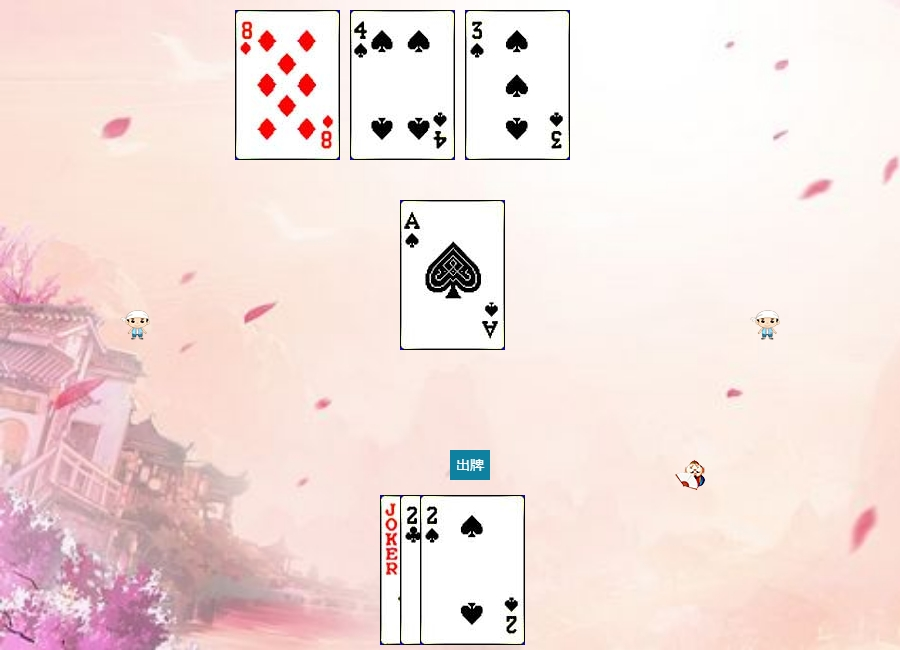14~4: (400, 200, 505, 350)
15~2: (400, 495, 505, 645)
15~4: (420, 495, 525, 645)
18~4: (380, 495, 485, 645)
3~4: (465, 10, 570, 160)
4~4: (350, 10, 455, 160)
8~1: (235, 10, 340, 160)
